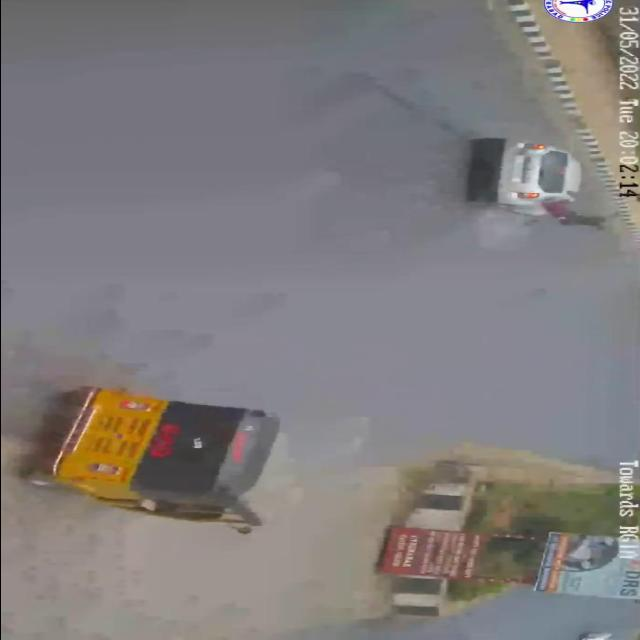accident: (454, 130, 614, 230)
